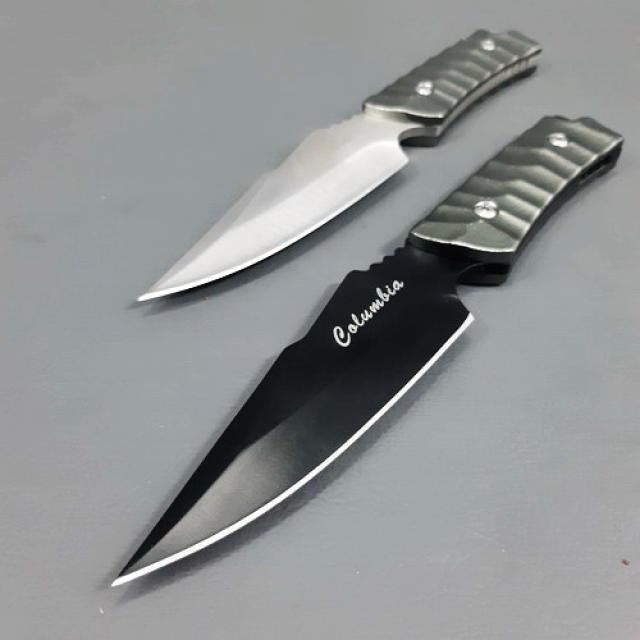Pisau: (118, 19, 569, 317)
